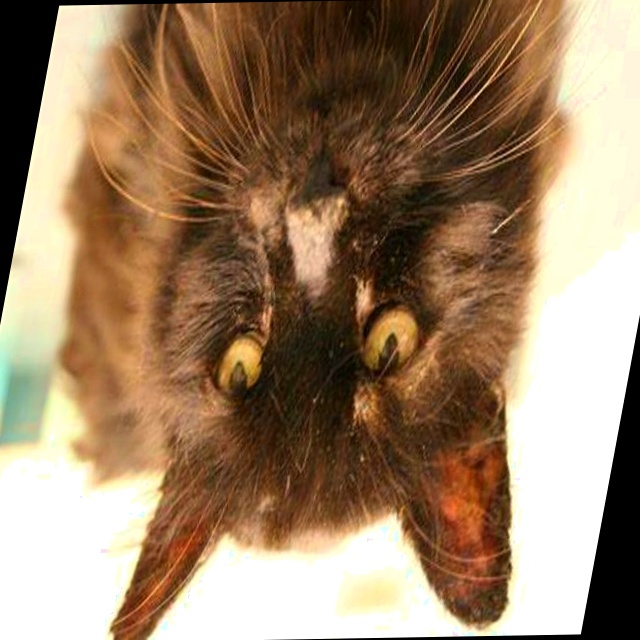ringworm: (409, 465, 525, 608)
